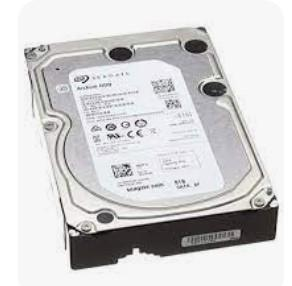internal HDD: (24, 27, 279, 270)
